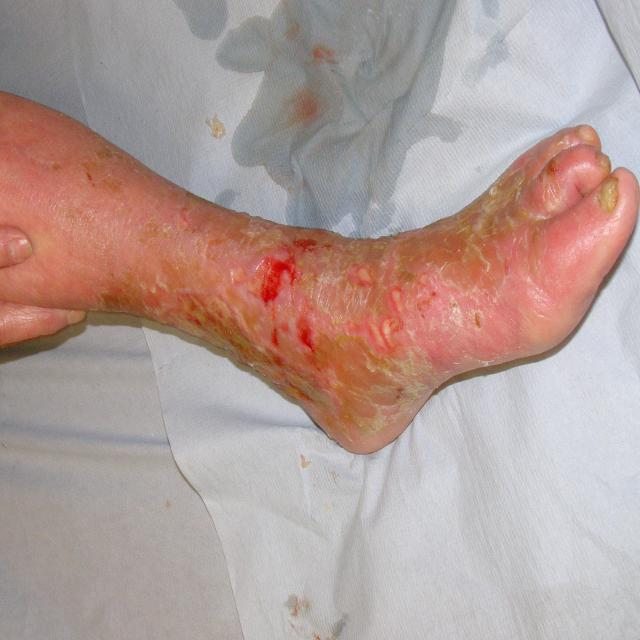wound: (210, 209, 420, 395)
